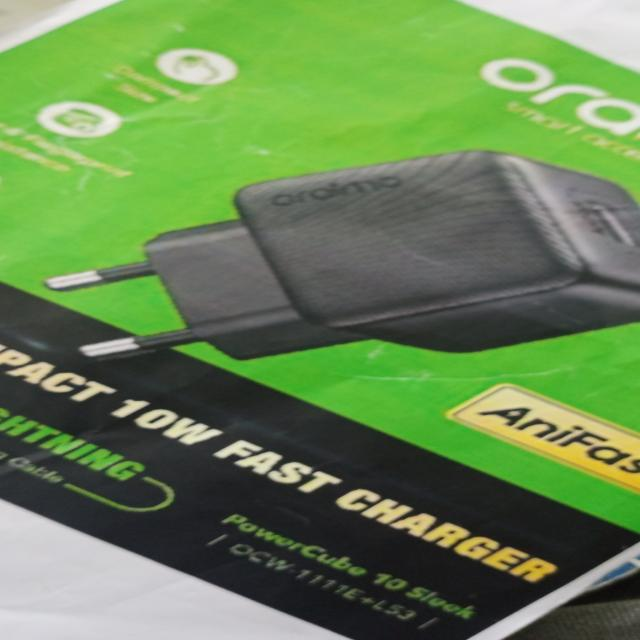PowerCube 10 Sleek OCW-1111ExL53: (172, 498, 511, 637)
